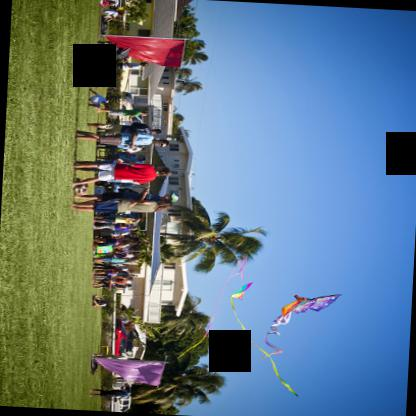backpack: (108, 389, 127, 396)
